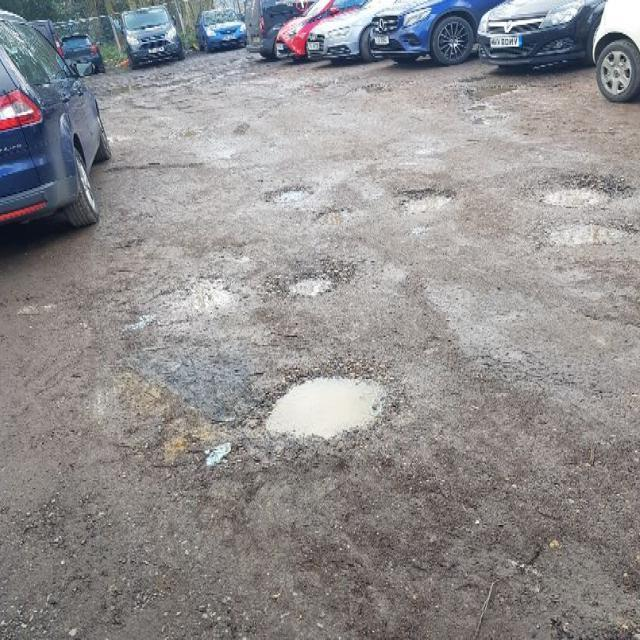Pothole: (261, 353, 396, 461), (530, 165, 640, 217), (281, 258, 348, 302), (397, 176, 457, 220)
